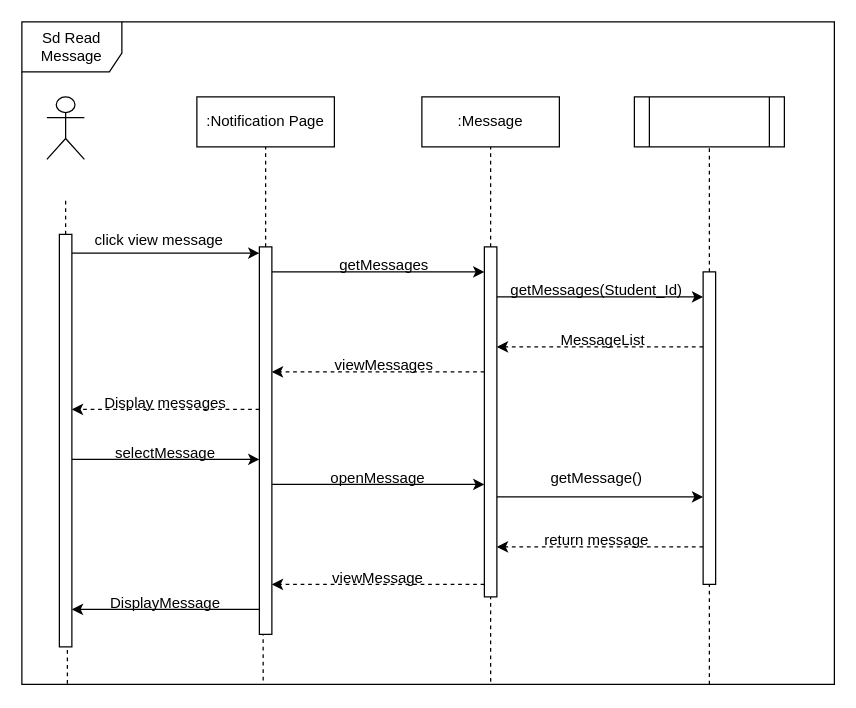
This 856x708 diagram has some shape labels left out. The shapes that lost their labels are listed below. From the top down, each one's centre as x and y in pixels, then its label:
At point 65,127: "Student".
At point 708,121: ":Database".
